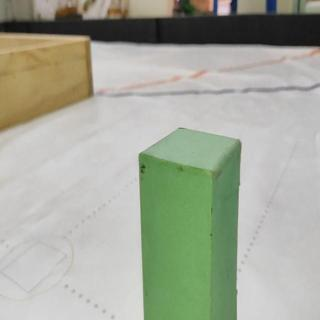greenbox: (137, 125, 242, 320)
